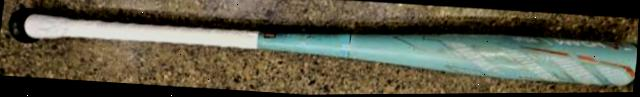baseball bat: (0, 0, 640, 92)
